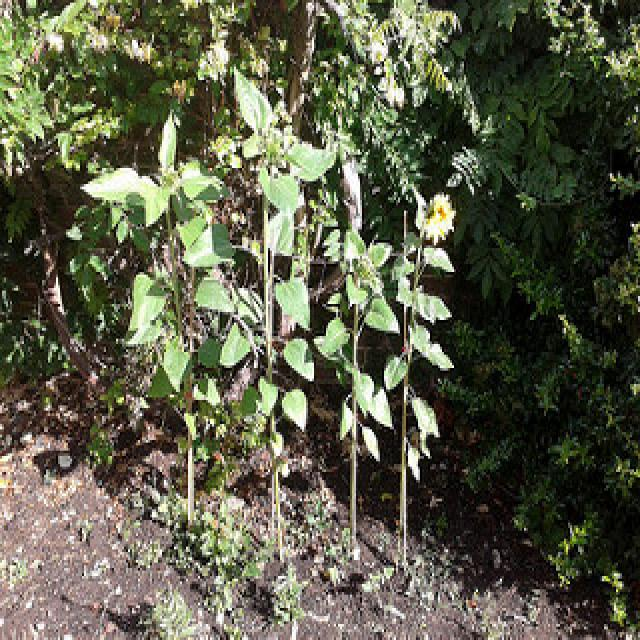sunflower: (418, 196, 454, 243)
